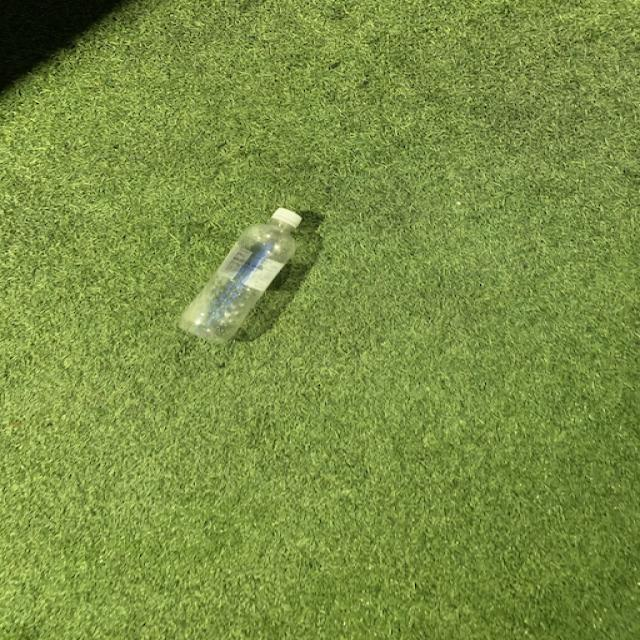litter: (175, 207, 303, 353)
